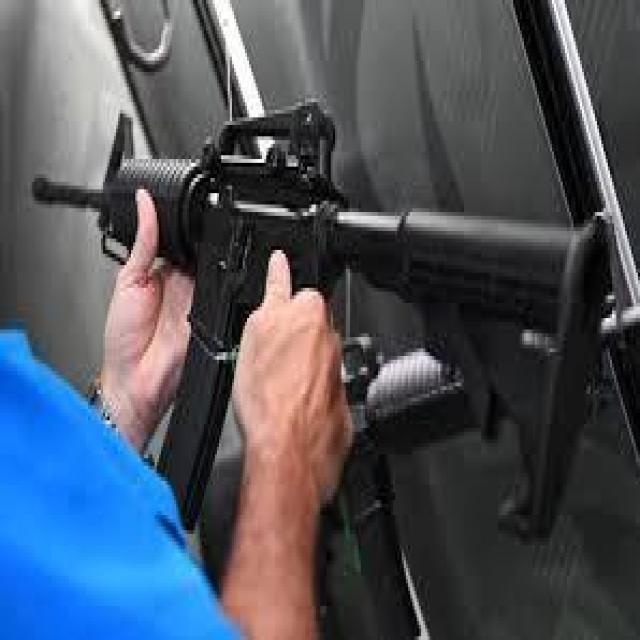Rifle: (30, 96, 614, 536)
